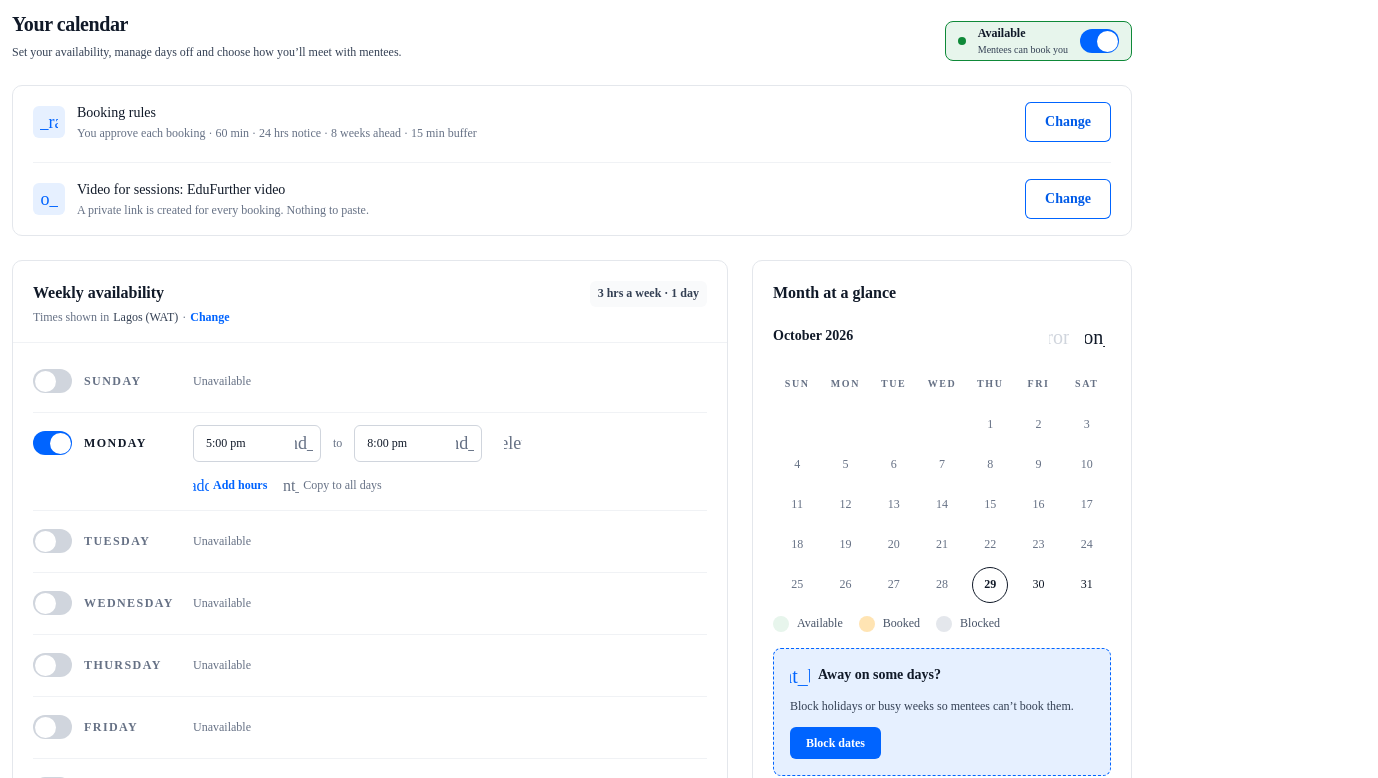
CalendarScreen › collects edits in a draft: the save bar appears, and Discard puts the saved hours back
Click the switch named "Tuesday" next to "Tuesday" at coordinates (52, 542), box [33, 530, 72, 554]
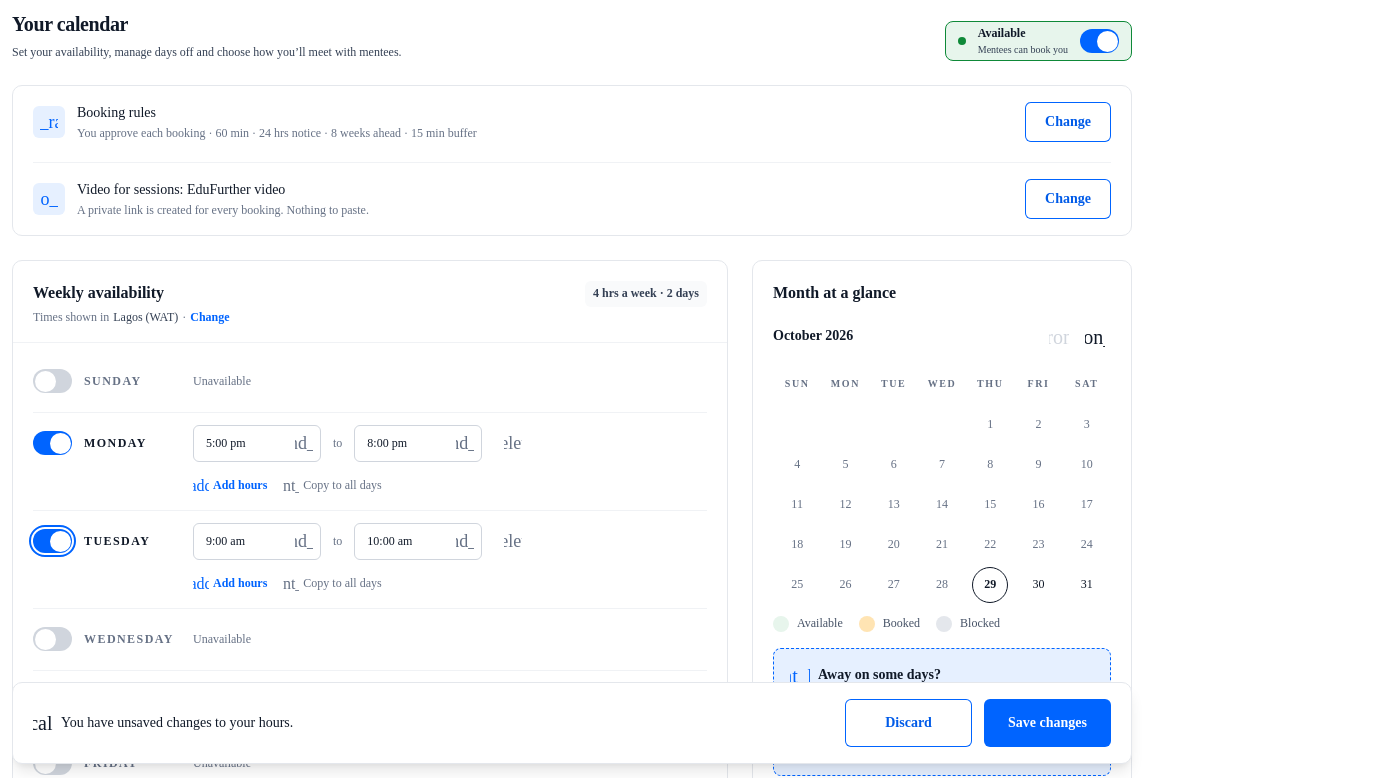
Result: the element "unsaved changes" is shown at [12, 682, 1132, 764]
Click the button "Discard" at coordinates (909, 723), box [845, 699, 972, 747]
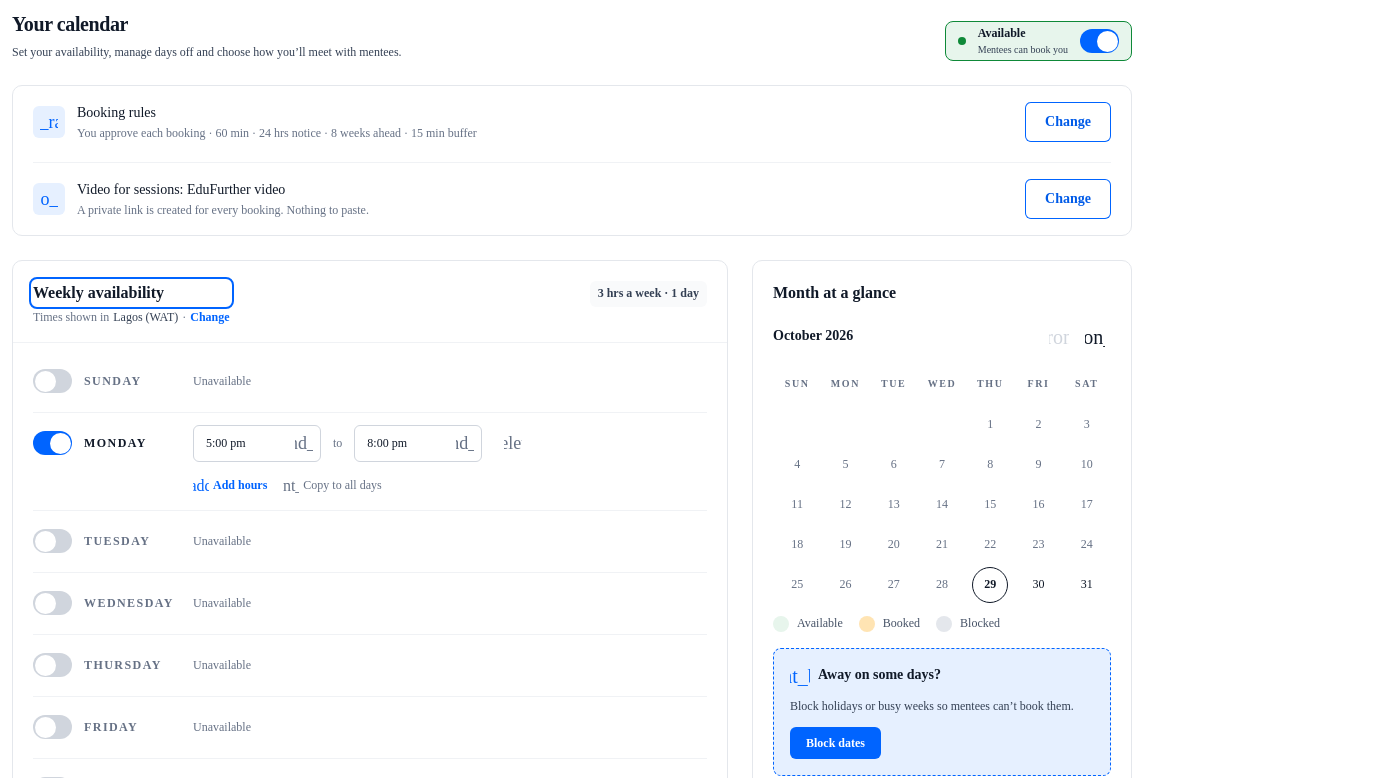
Result: the message "unsaved changes" is gone
